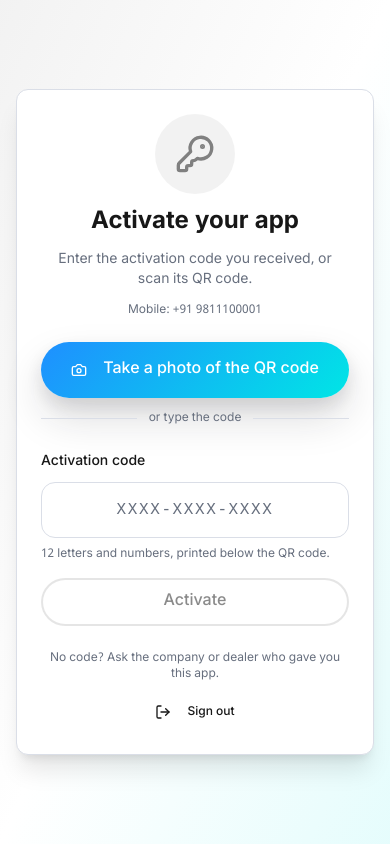
Test: Activate › formats what is typed, and enables Activate only for a whole code
In the field labelled "Activation code": (195, 510) x1=41 y1=482 x2=349 y2=538, type "7k2m9pq"
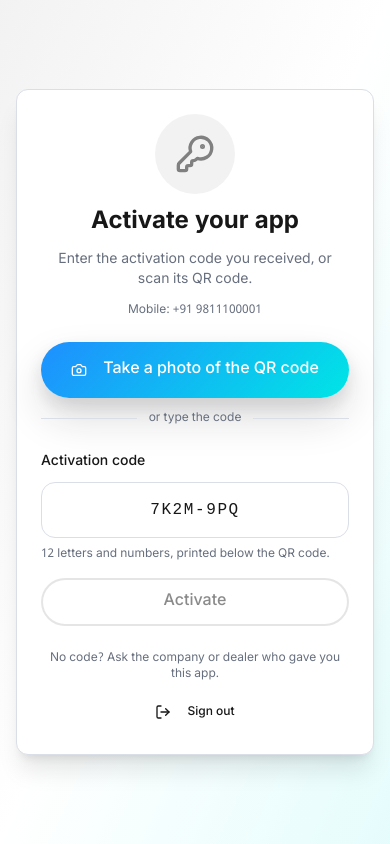
Expected: the button "Activate" is disabled, x1=41 y1=578 x2=349 y2=626
Now the field labelled "Activation code" holds "7K2M-9PQ"
Replace the text in the field labelled "Activation code" with "ksa1:7k2m-9pqr-4t8x": (195, 510) x1=41 y1=482 x2=349 y2=538
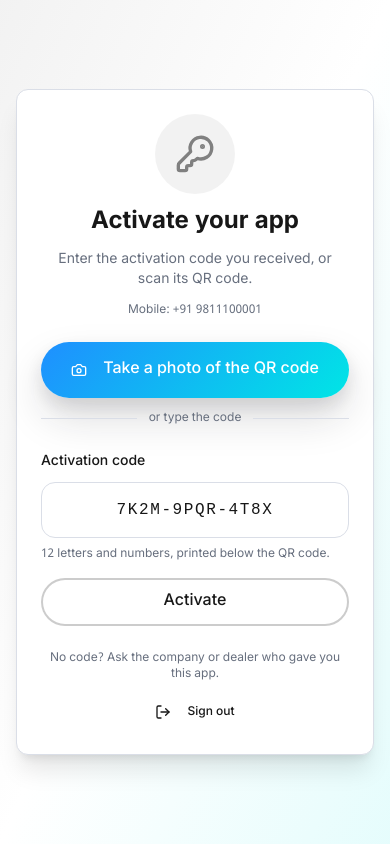
Now the field labelled "Activation code" holds "7K2M-9PQR-4T8X", box x1=41 y1=482 x2=349 y2=538
Now the button "Activate" is enabled, box x1=41 y1=578 x2=349 y2=626
